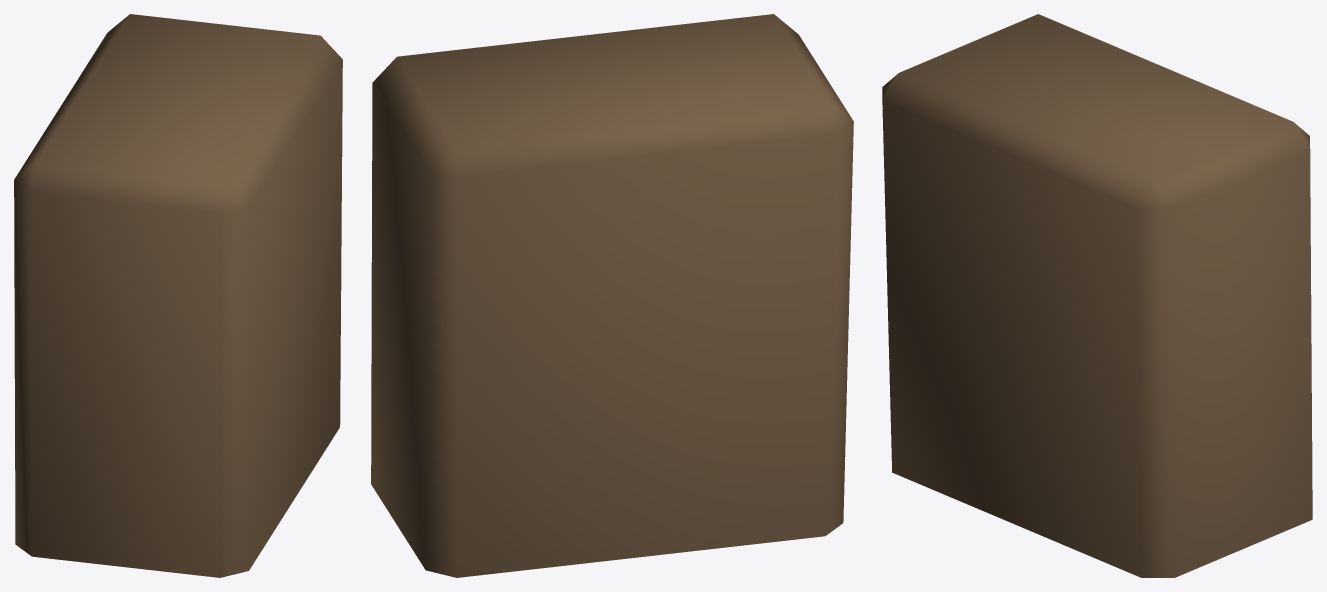
The model's file is rpgpp_av_wall_connector_corner_01b_1m.gltf.
3 renders of one model, left to right at view 1: azimuth 30°, elevation 25°; view 2: azimuth 150°, elevation 25°; view 3: azimuth 270°, elevation 25°, orthographic. The views are drawn at different scales.
Visible parts, largest first — view 1: rpgpp_av_wall_connector_corner_01b_1m; view 2: rpgpp_av_wall_connector_corner_01b_1m; view 3: rpgpp_av_wall_connector_corner_01b_1m.
Part boxes in pixels (x1,y1,x2,y2): rpgpp_av_wall_connector_corner_01b_1m: [14, 14, 342, 577]; rpgpp_av_wall_connector_corner_01b_1m: [371, 14, 853, 577]; rpgpp_av_wall_connector_corner_01b_1m: [882, 14, 1312, 577].
Size of the model in its own units: 0.0109 by 0.011 by 0.011.
Materials: 1 (1 with a texture image).
